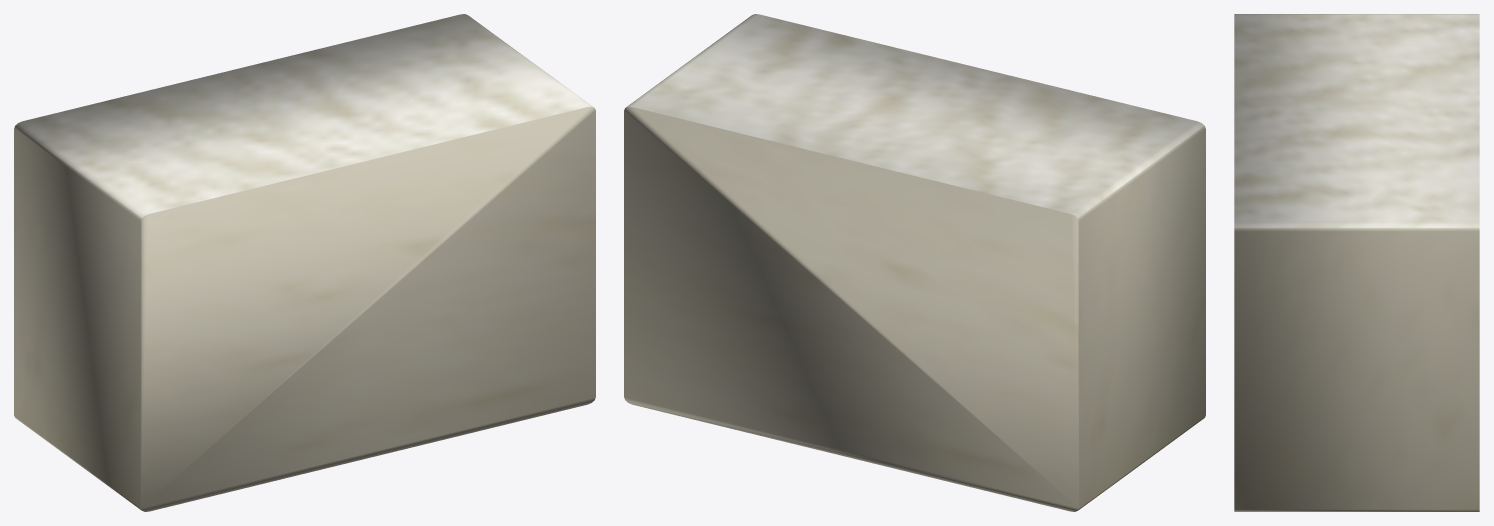
Rendered from tofu_piece_2.fbx.
The picture shows the model from 3 angles, left to right: view 1: azimuth 30°, elevation 25°; view 2: azimuth 150°, elevation 25°; view 3: azimuth 270°, elevation 25°; orthographic projection. The views are drawn at different scales.
Parts seen in each view (by area): view 1: Tofu; view 2: Tofu; view 3: Tofu.
Part boxes in pixels (left/top/right/bottom): Tofu: left=14, top=14, right=595, bottom=511; Tofu: left=624, top=14, right=1205, bottom=511; Tofu: left=1234, top=14, right=1479, bottom=511.
Bounding box in the file's own units: 9.8 × 6.12 × 4.73.
1 material, 1 textured.
